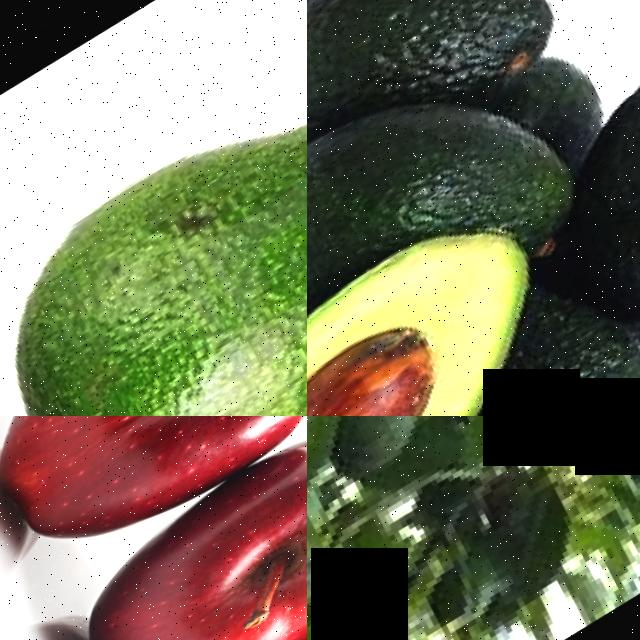apple: (14, 416, 307, 640), (0, 416, 307, 615), (102, 514, 307, 640)
avocado: (0, 0, 307, 416), (307, 18, 591, 358), (307, 182, 621, 416), (307, 0, 594, 189), (513, 26, 640, 376), (366, 350, 640, 416), (307, 416, 486, 516)
